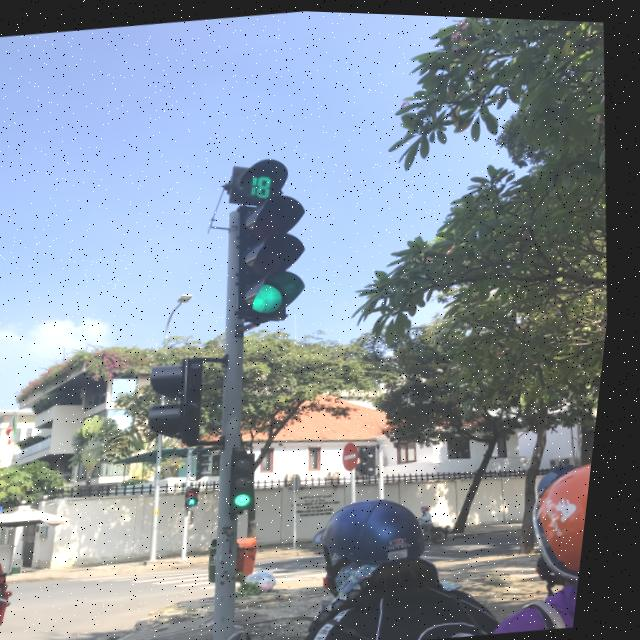Green: (220, 189, 324, 329), (229, 440, 277, 510)
